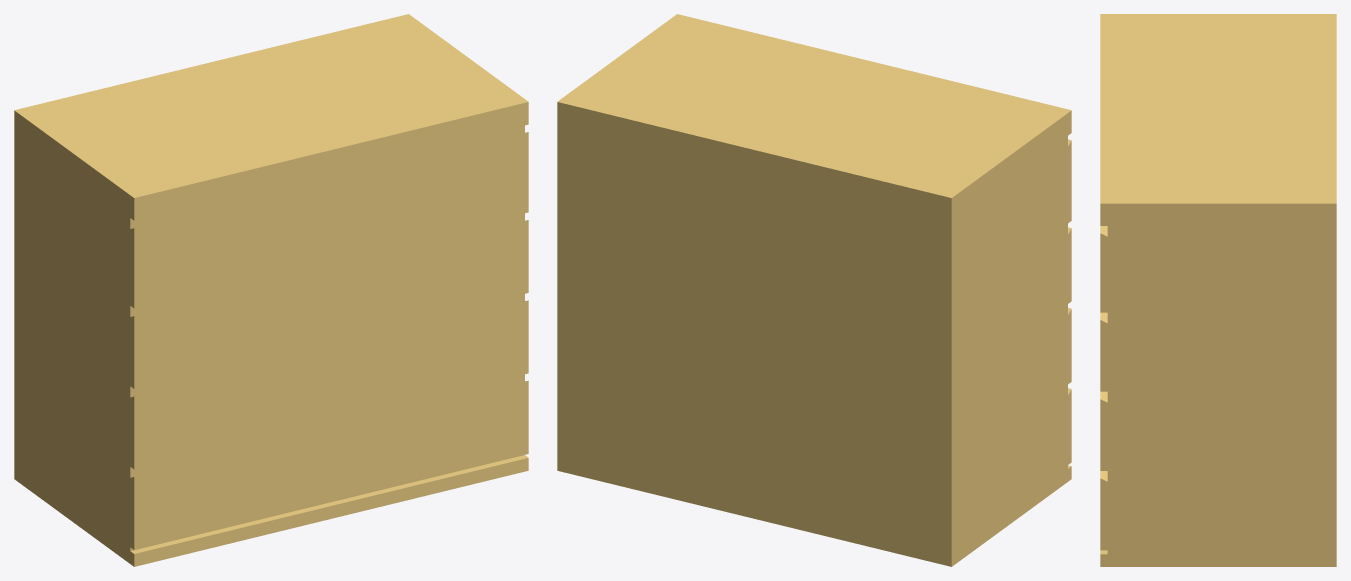
File: Drawer_large_1577_831_1408.fbx
3 renders of one model, left to right at view 1: azimuth 30°, elevation 25°; view 2: azimuth 150°, elevation 25°; view 3: azimuth 270°, elevation 25°, orthographic.
Parts seen in each view (by area): view 1: Drawer_large_1577_831_1408; view 2: Drawer_large_1577_831_1408; view 3: Drawer_large_1577_831_1408.
Boxes of the visible parts, x1,y1,x2,y2 form: Drawer_large_1577_831_1408: (14, 14, 528, 566); Drawer_large_1577_831_1408: (557, 14, 1071, 566); Drawer_large_1577_831_1408: (1100, 14, 1336, 566).
Size of the model in its own units: 158 by 141 by 83.12.
